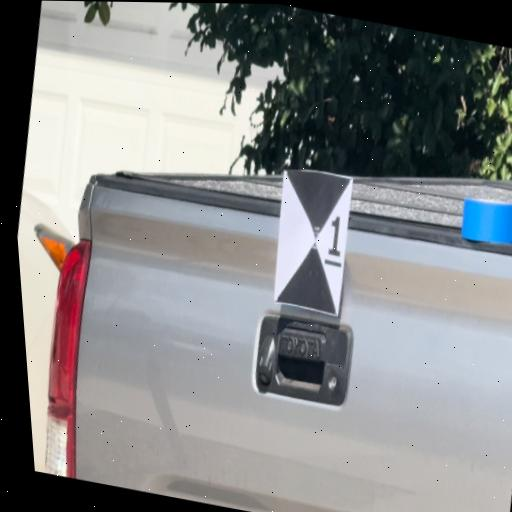target1: (260, 169, 362, 318)
